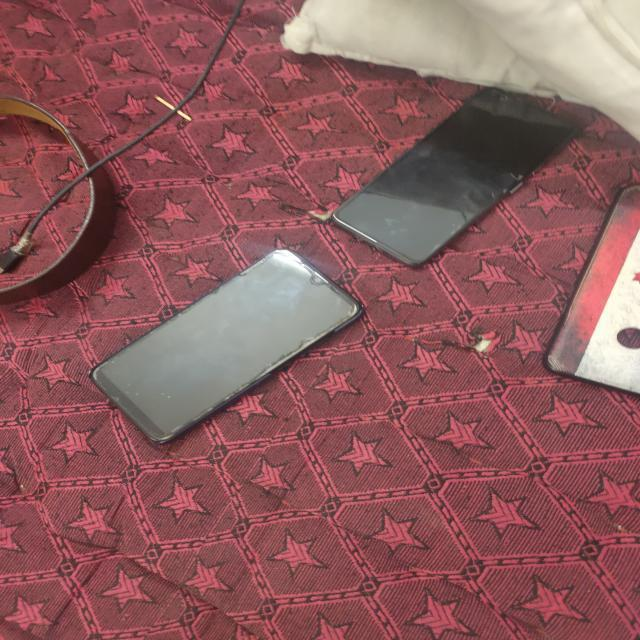Phone: (84, 244, 365, 453), (326, 82, 594, 269), (535, 172, 640, 398)
